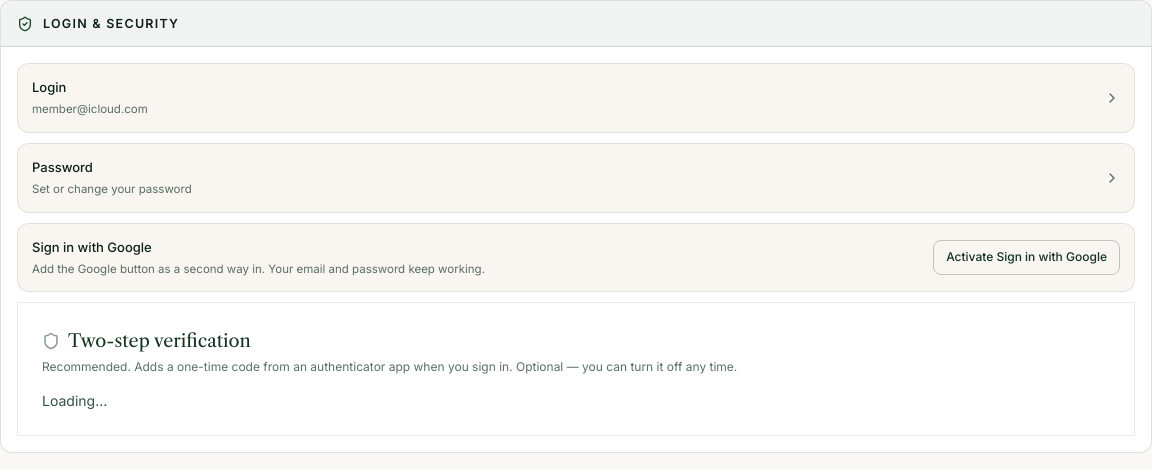
Test case: pressing the control › links the CURRENT account and stays busy while the browser leaves
Click the button with test id "activate-google-signin" at (1027, 257), box [933,240,1120,275]
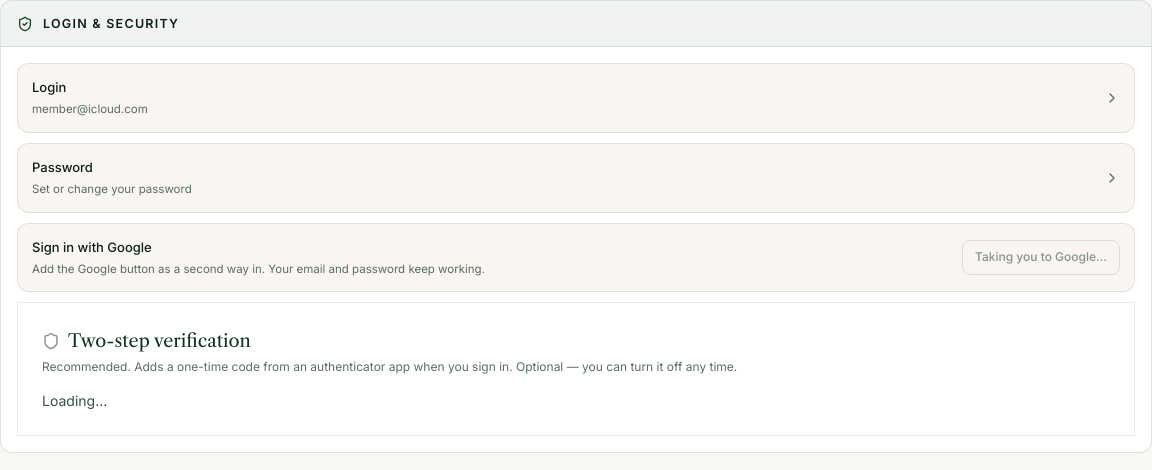
Result: the button with test id "activate-google-signin" is disabled at [962,240,1120,275]
Result: the button with test id "activate-google-signin" shows "Taking you to Google" at [962,240,1120,275]
